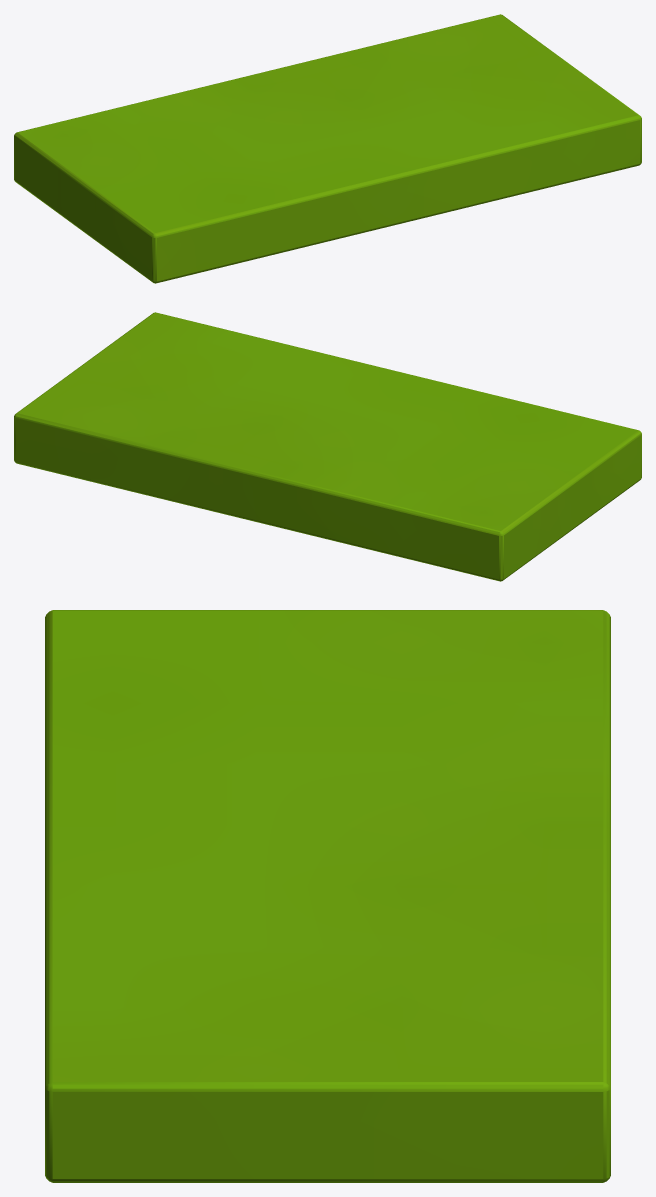
The model's file is FlatCuboidGreen.fbx.
The picture shows the model from 3 angles, top to bottom: view 1: azimuth 30°, elevation 25°; view 2: azimuth 150°, elevation 25°; view 3: azimuth 270°, elevation 25°; orthographic projection. The views are drawn at different scales.
Parts seen in each view (by area): view 1: Cube; view 2: Cube; view 3: Cube.
Boxes of the visible parts, box(x1,y1,x2,y2) form: Cube: box(14, 14, 641, 283); Cube: box(14, 312, 641, 581); Cube: box(45, 610, 610, 1182).
Size of the model in its own units: 6 by 0.5895 by 3.
